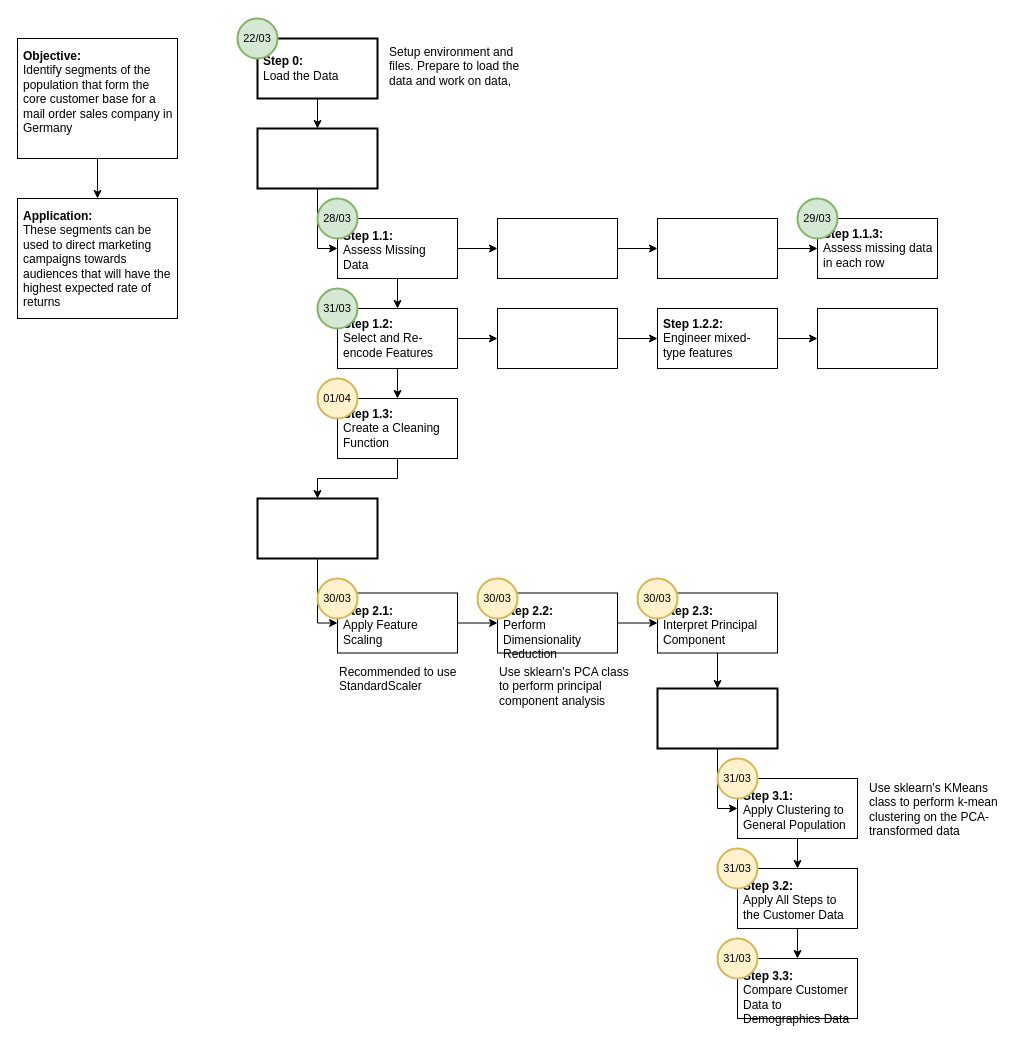
Some shapes in this 1025 by 1044 pixel diagram are drawn without their labels. The shapes that lost their labels are listed below. From the top down, each one's centre as x and y in pixels, then its label:
At [317,158]: "Step 1: Preprocessing".
At [557,248]: "Step 1.1.1: Convert missing value codes to NaN".
At [717,248]: "Step 1.1.2: Assess missing data in each column".
At [557,338]: "Step 1.2.1: Re-encode categorical features".
At [877,338]: "Step 1.2.3: Complete feature selection".
At [317,528]: "Step 2: Feature Transformation".
At [717,718]: "Step 3: Clustering".
